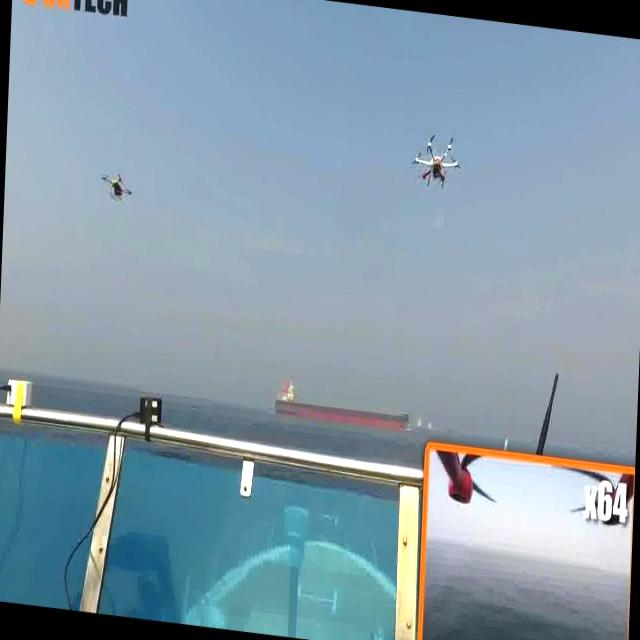drone: (409, 124, 465, 200), (99, 169, 135, 206)
